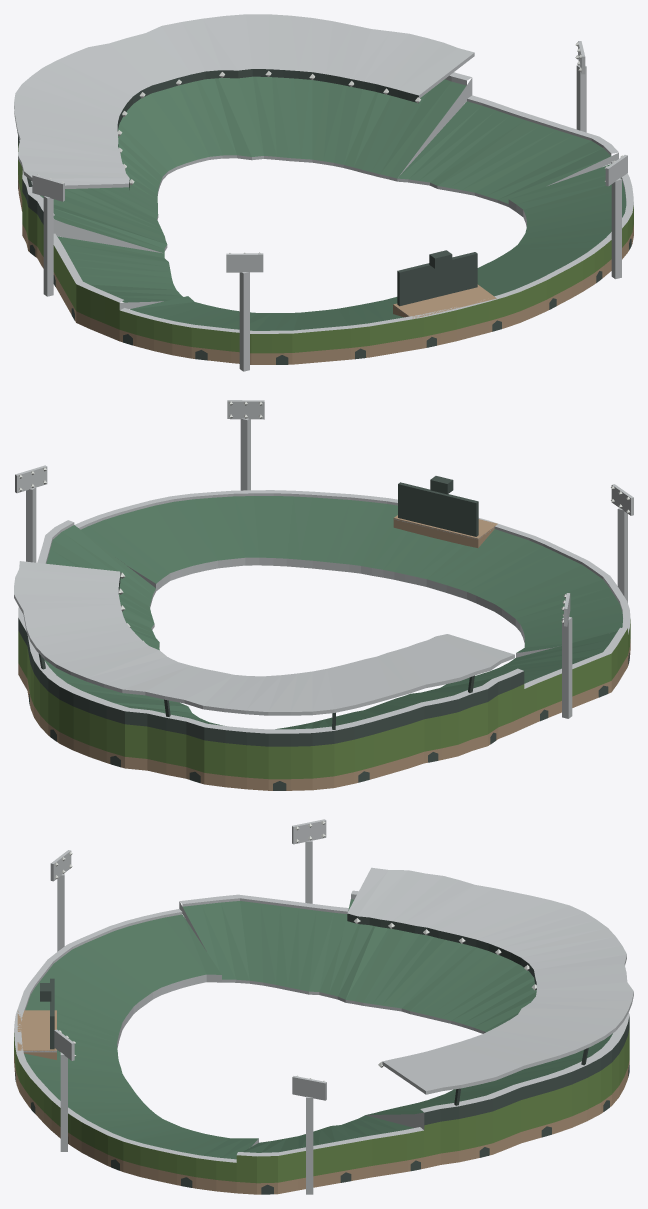
Rendered from nishinomiya-koshien.glb.
3 views of the same model, one above another, from view 1: azimuth 30°, elevation 25°; view 2: azimuth 150°, elevation 25°; view 3: azimuth 270°, elevation 25° (orthographic).
Visible parts, largest first — view 1: Hanshin Koshien Stadium; view 2: Hanshin Koshien Stadium; view 3: Hanshin Koshien Stadium.
Boxes of the visible parts, left/top/right/bottom form: Hanshin Koshien Stadium: left=14, top=14, right=633, bottom=371; Hanshin Koshien Stadium: left=14, top=400, right=633, bottom=790; Hanshin Koshien Stadium: left=14, top=819, right=633, bottom=1194.
Bounding box in the file's own units: 222 × 44.9 × 220.
